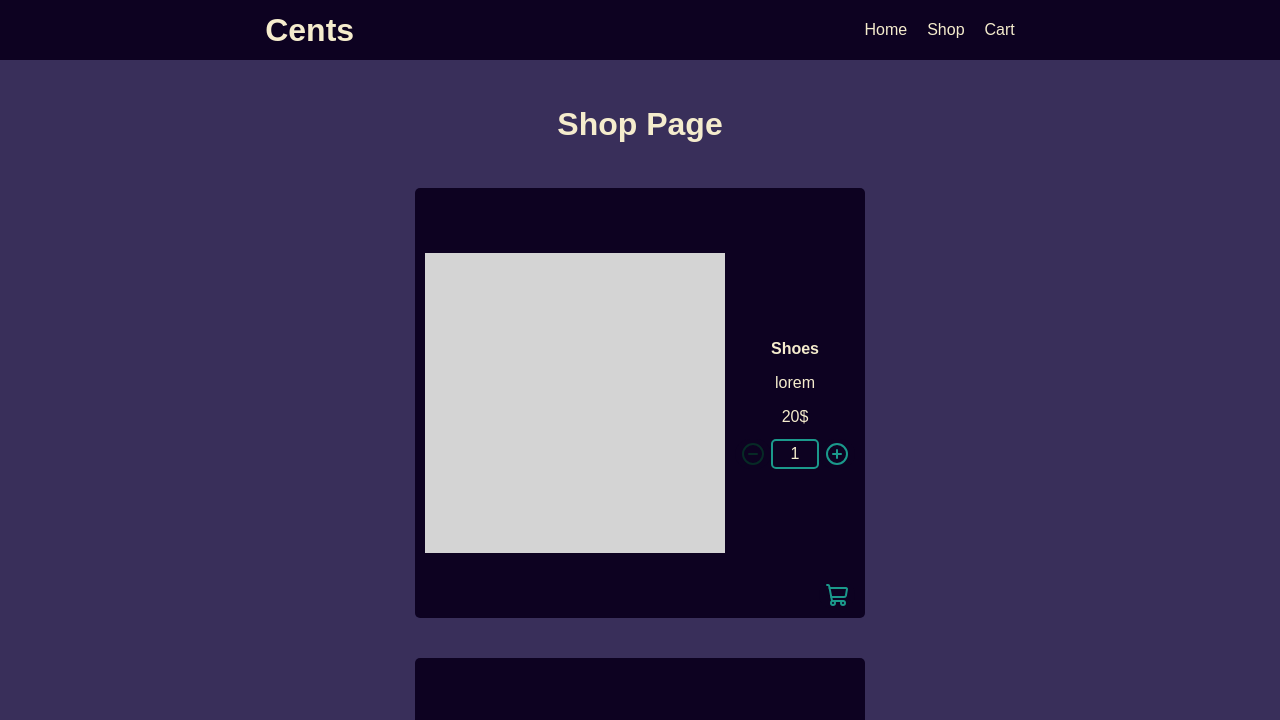
Test: App component › Add to Cart button removes the item from cart if it's already there
This screenshot has width=1280, height=720.
Click the button named "add to cart" at (837, 595), box [819,582,855,608]
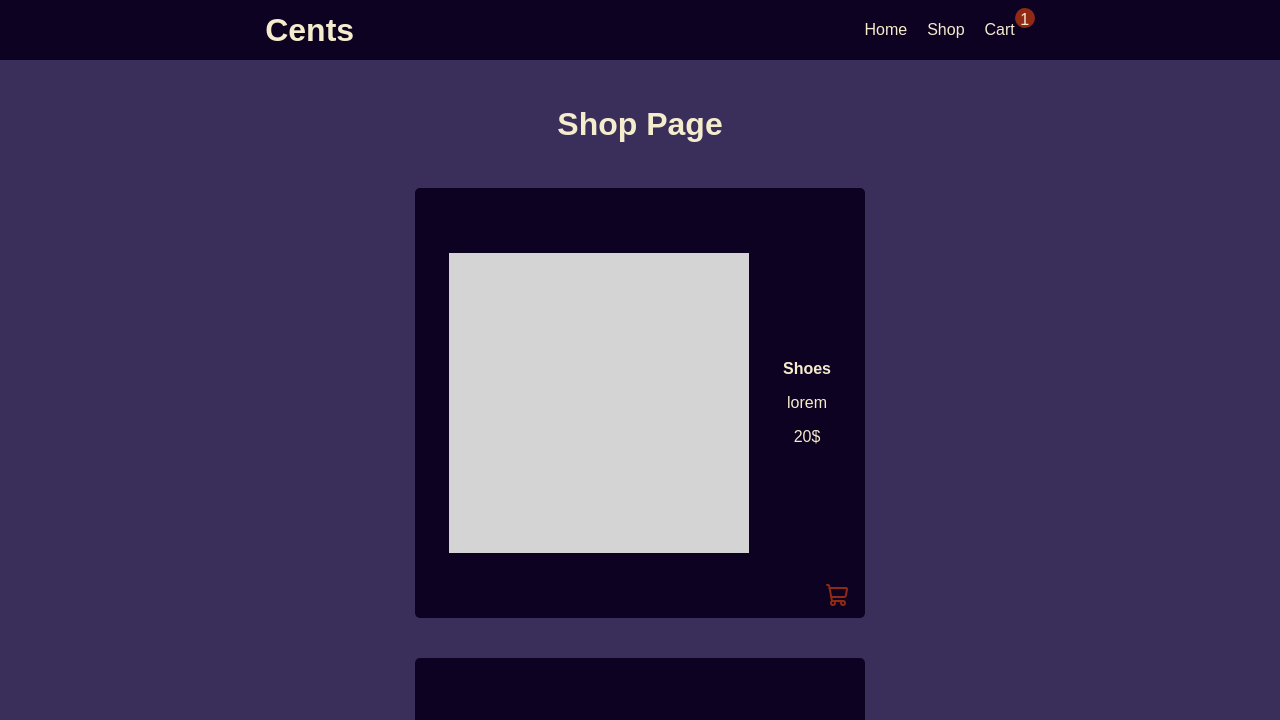
Click the button named "remove from cart" at (837, 595), box [819,582,855,608]
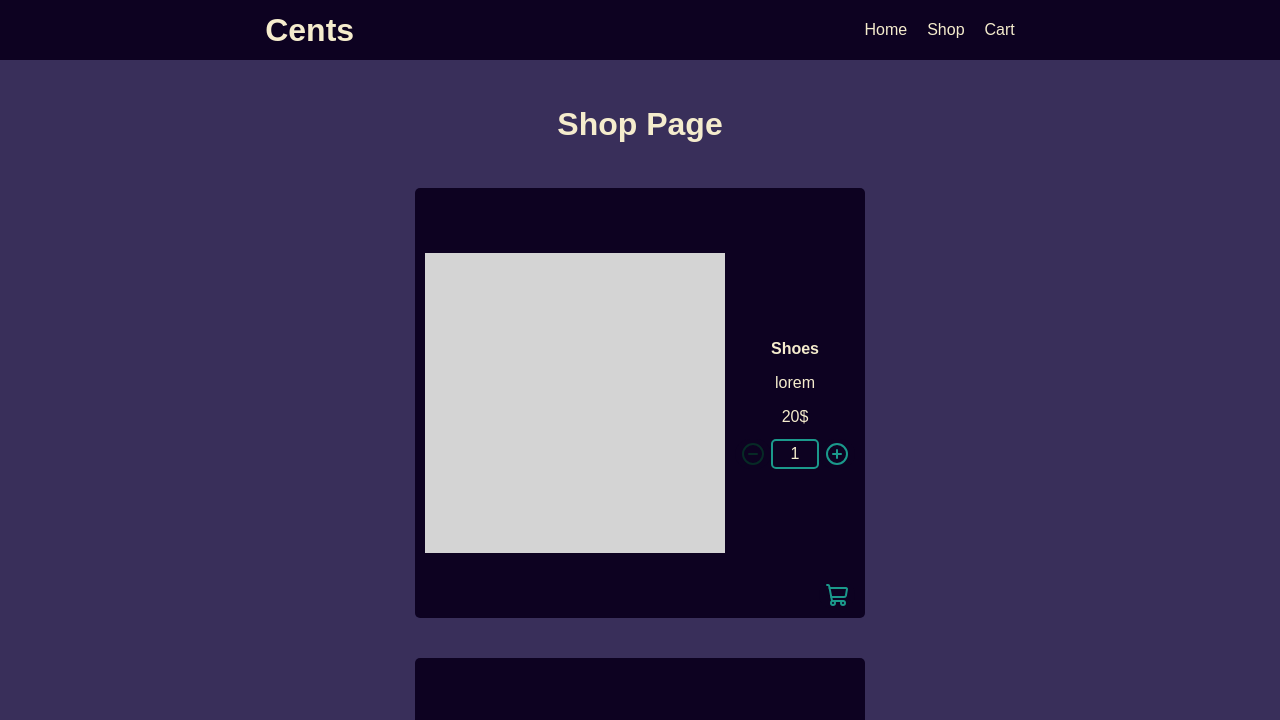
Click the link "Cart" at (1000, 30), box [984,18,1015,42]
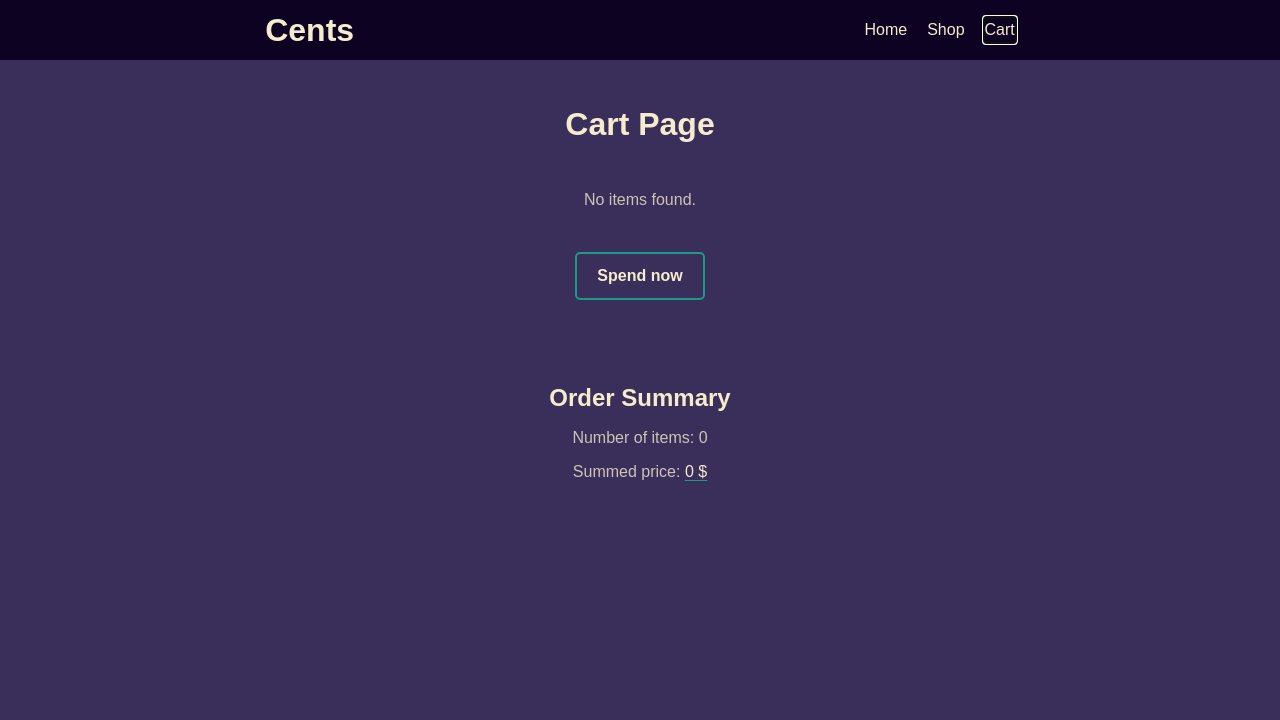
Result: the text "No items found." is shown at [575,188,705,212]
